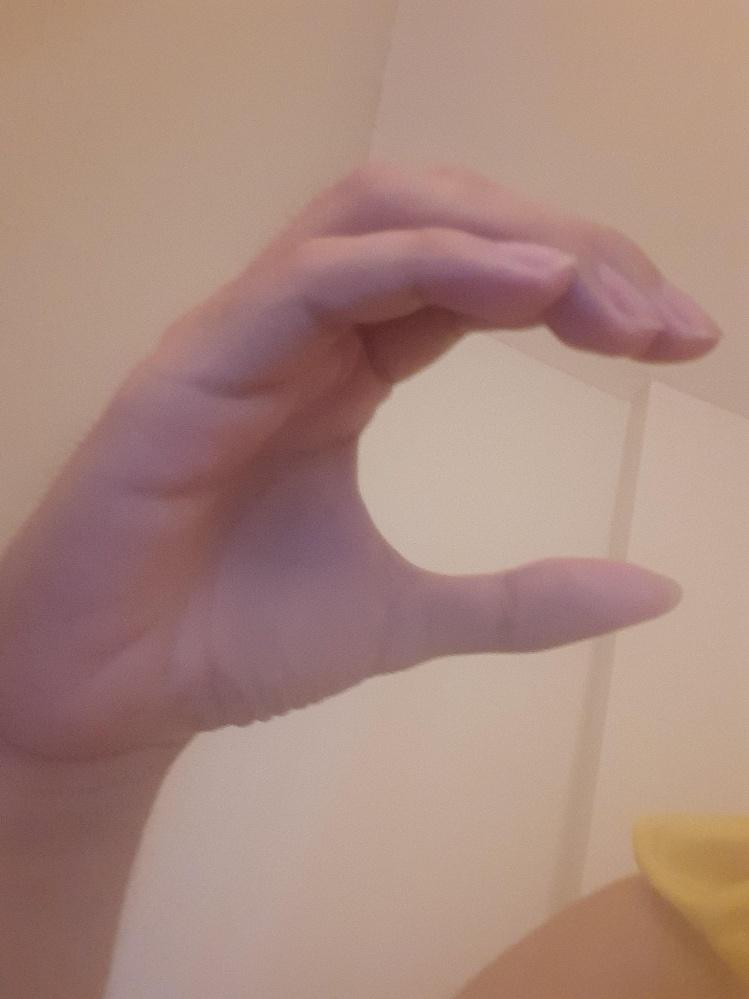c: (70, 164, 724, 725)
